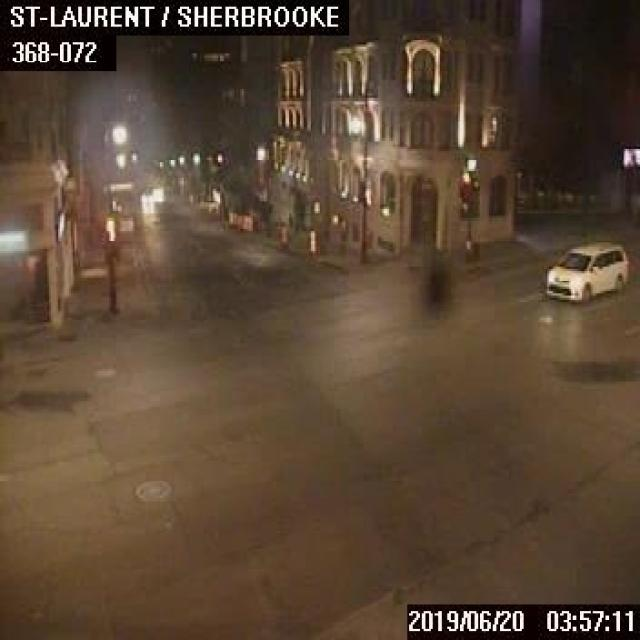construction: (307, 228, 316, 255), (278, 224, 287, 249)
vehicle: (542, 236, 629, 300)
